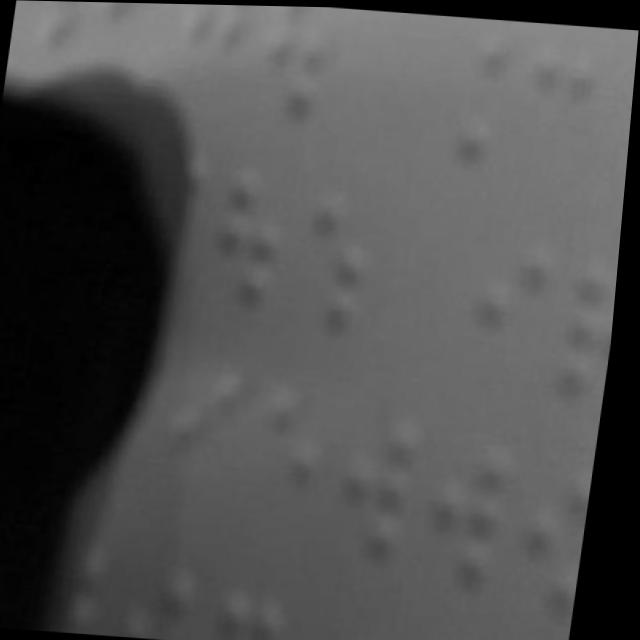braiile: (249, 368, 347, 537), (423, 422, 519, 589), (335, 403, 434, 563), (156, 354, 253, 514), (518, 448, 603, 612), (472, 230, 563, 379), (420, 25, 517, 164), (297, 181, 383, 329), (515, 34, 606, 169), (208, 165, 293, 309), (162, 3, 256, 112), (256, 5, 341, 124), (559, 258, 623, 401)
